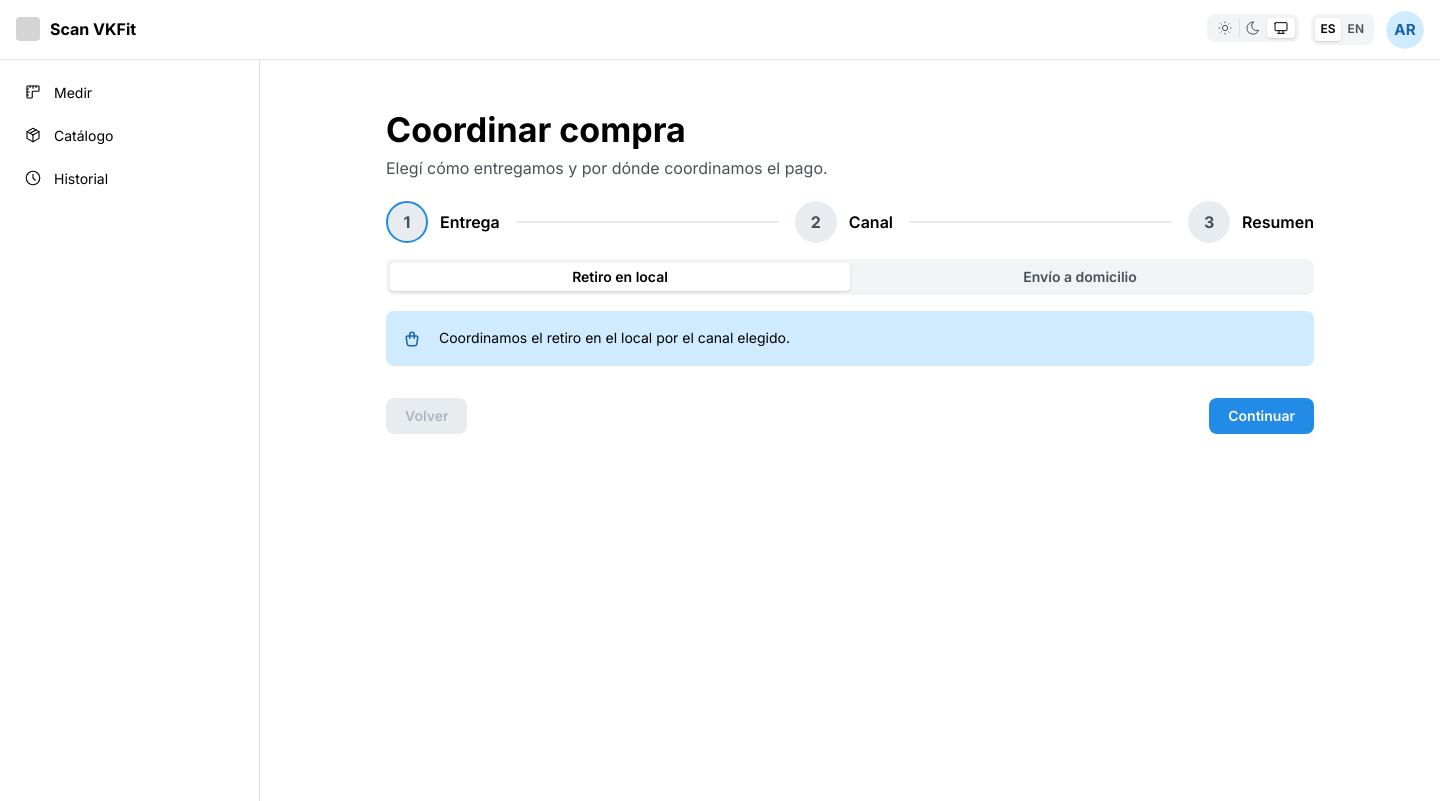
Scenario: checkout (flujo completo) › rechaza un cupón inválido sin frenar la compra
Click the button "Continuar".
click(1262, 416)  # box [1209,398,1314,434]
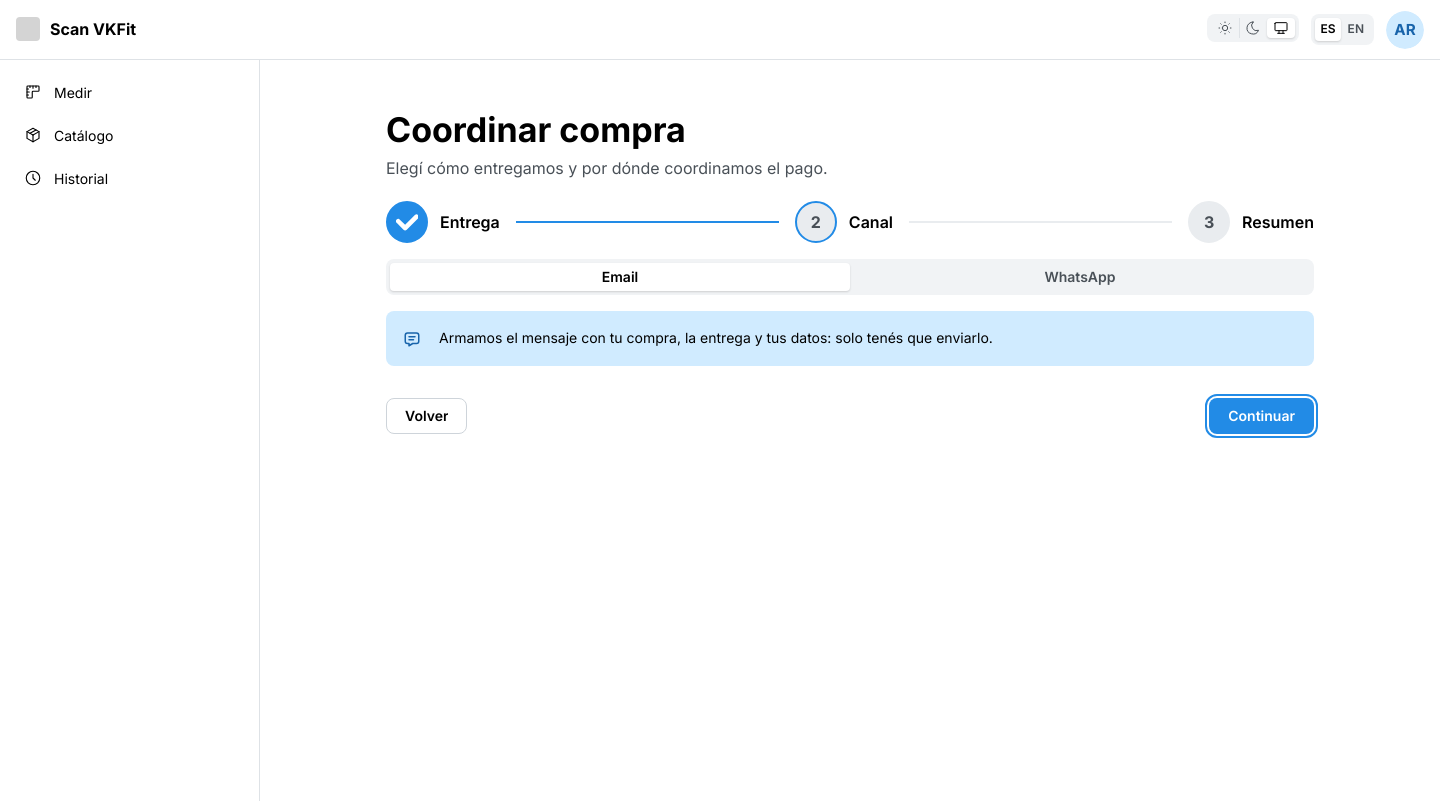
Click the button "Continuar".
click(1262, 416)  # box [1209,398,1314,434]
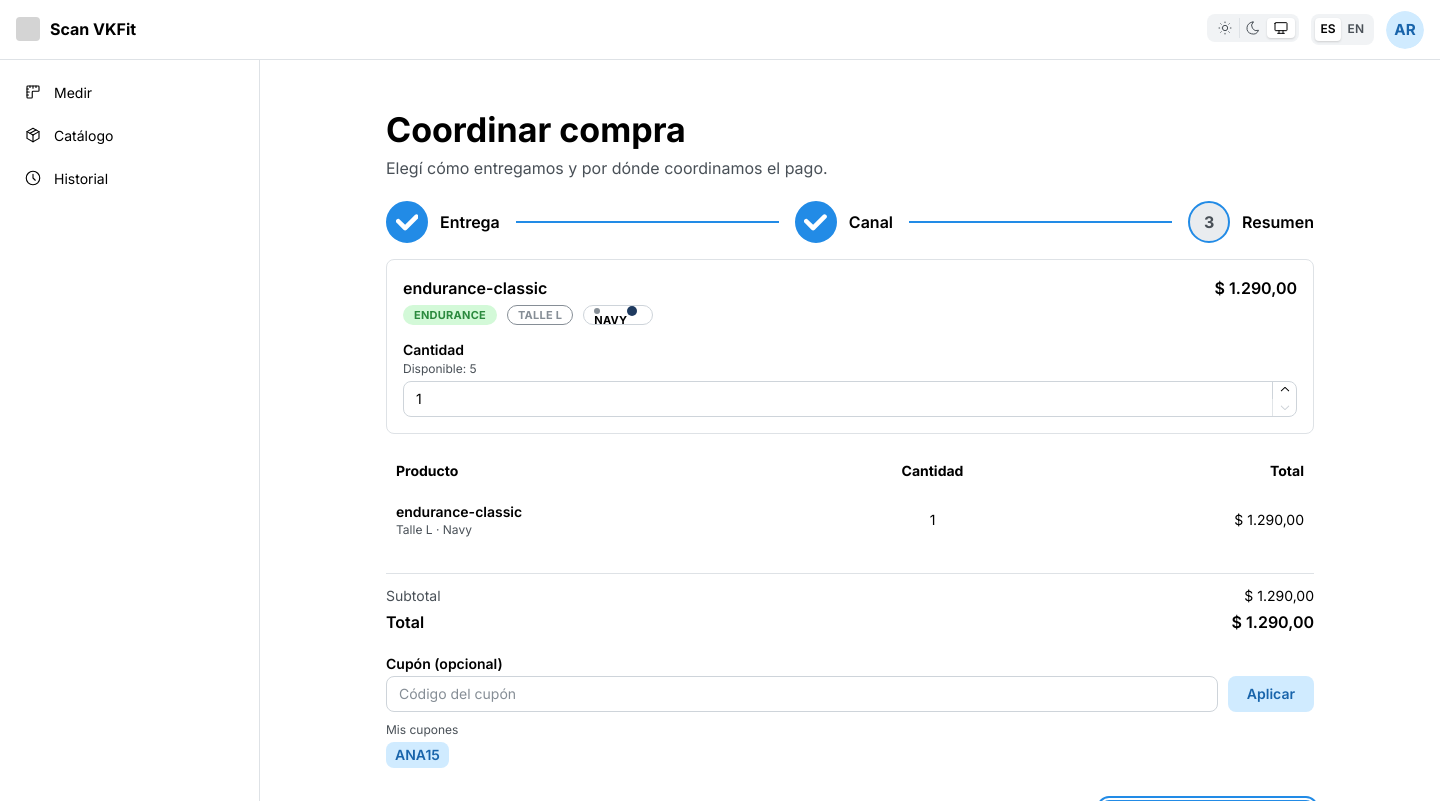
Type "NOEXISTE" into the field with placeholder "Código del cupón".
click(802, 694); type("NOEXISTE")  # box [386,676,1218,712]
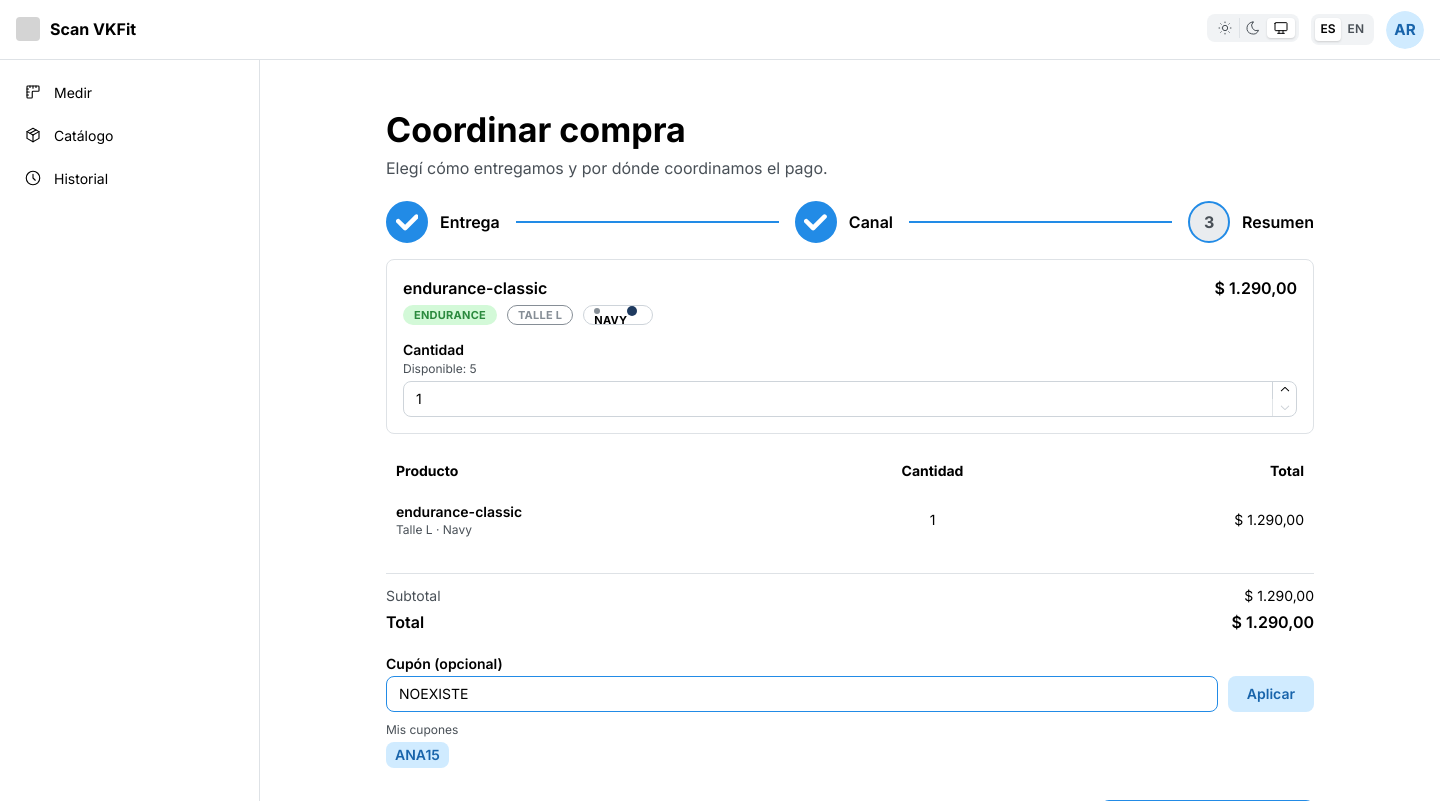
Click the button "Aplicar".
click(1271, 694)  # box [1228,676,1314,712]
(page scrolled)
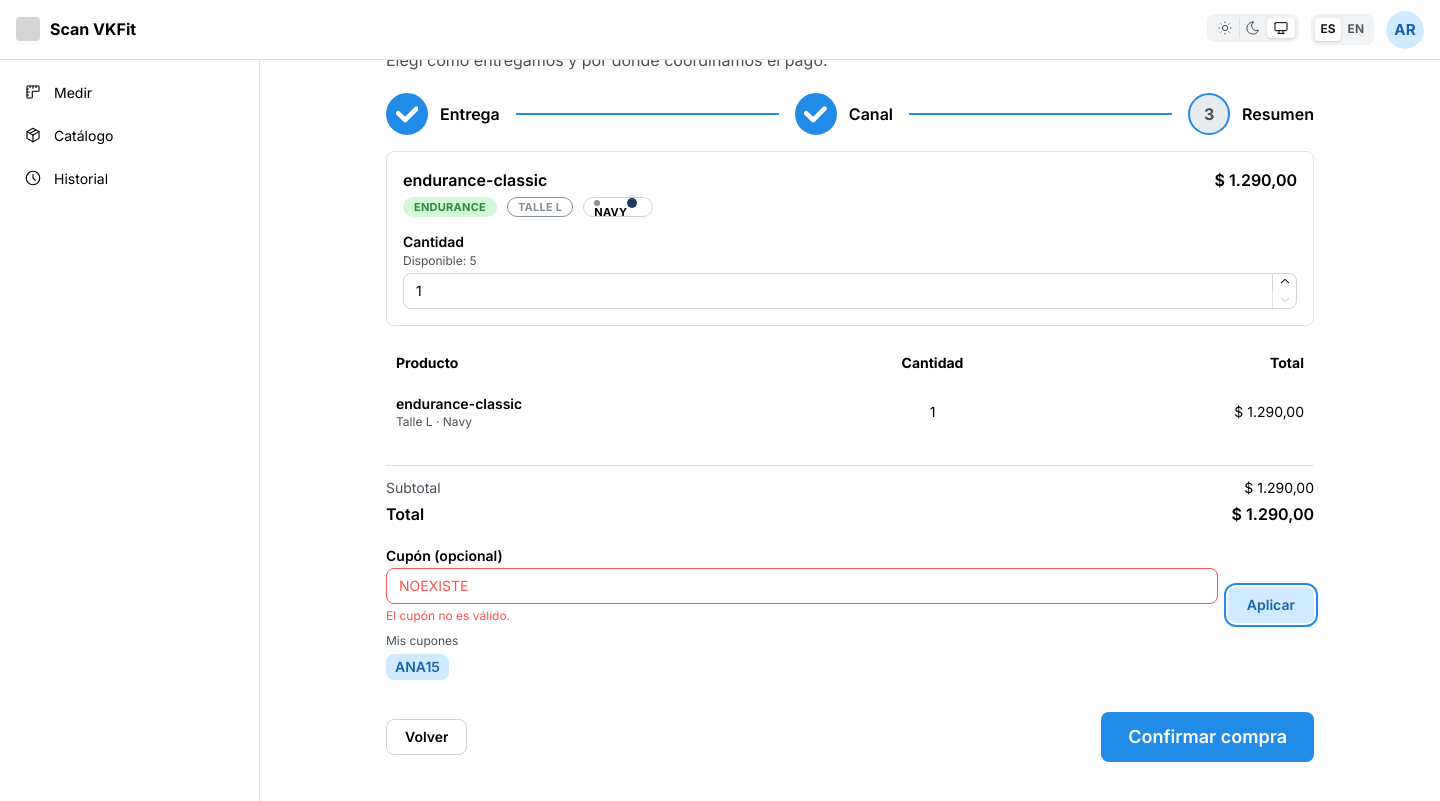
expect the button "Confirmar compra" is enabled: met, box [1101,712,1314,762]
expect the text "El cupón no es válido." is shown: met, box [386,608,510,623]
